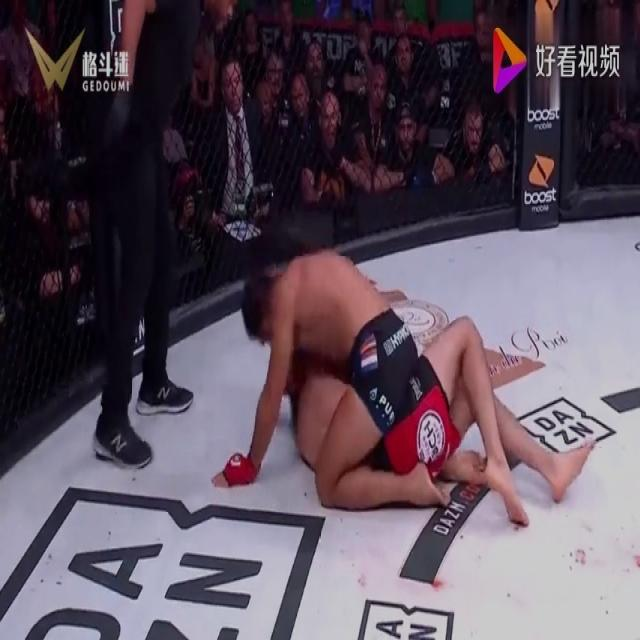fight: (218, 232, 572, 540)
non-fight: (66, 0, 255, 472)
